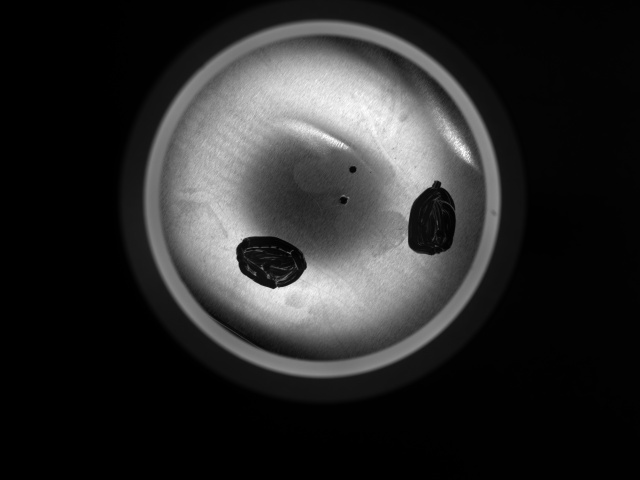zang_wu: (235, 234, 309, 289), (405, 180, 455, 256)
zhen_kong: (337, 193, 350, 207), (346, 163, 359, 176)
